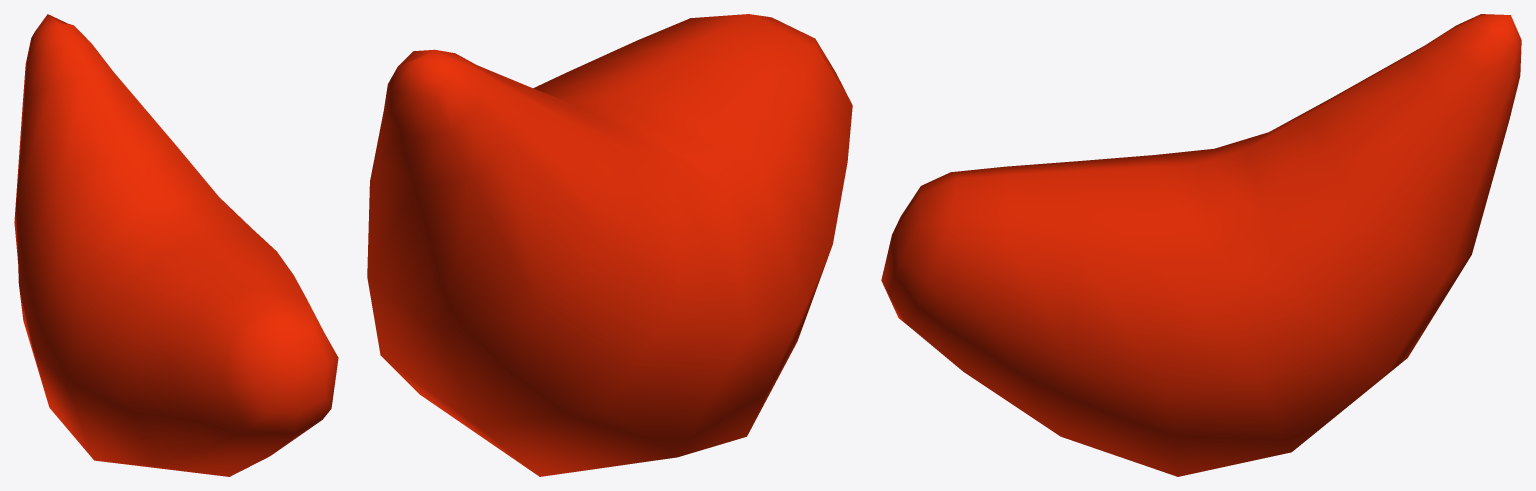
File: Foxing.fbx
3 renders of one model, left to right at view 1: azimuth 30°, elevation 25°; view 2: azimuth 150°, elevation 25°; view 3: azimuth 270°, elevation 25°, orthographic. The views are drawn at different scales.
Visible parts, largest first — view 1: FlurryTail; view 2: FlurryTail; view 3: FlurryTail.
Boxes of the visible parts, x1,y1,x2,y2 form: FlurryTail: (14,14,338,476); FlurryTail: (367,14,852,476); FlurryTail: (881,14,1521,476).
Bounding box in the file's own units: 56.32 × 81.18 × 105.
